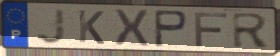F: (192, 11, 230, 48)
J: (35, 8, 68, 46)
K: (76, 9, 106, 46)
P: (152, 9, 190, 49)
R: (231, 12, 272, 50)
X: (112, 8, 151, 48)
